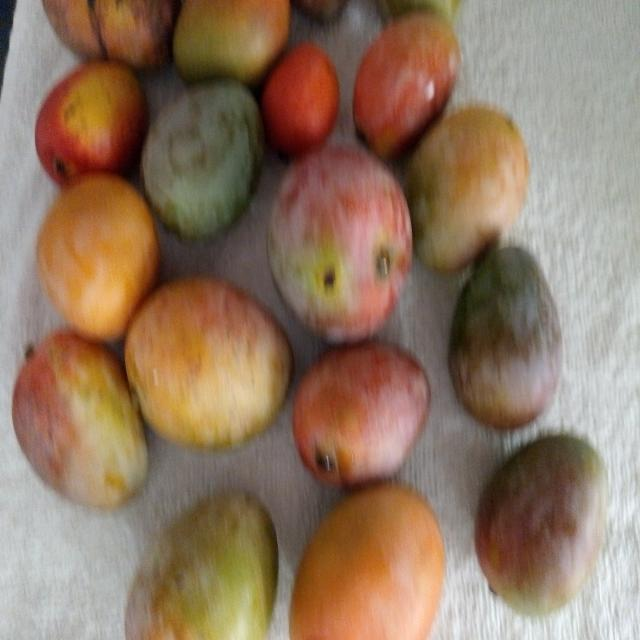mango: (125, 276, 292, 447), (268, 146, 412, 342), (12, 330, 147, 509), (290, 483, 444, 639), (475, 434, 606, 615), (125, 494, 278, 639), (449, 247, 562, 429), (406, 105, 529, 272), (293, 341, 430, 485), (141, 81, 264, 239), (353, 11, 460, 159), (35, 61, 148, 185), (173, 0, 290, 84), (43, 0, 181, 68)
